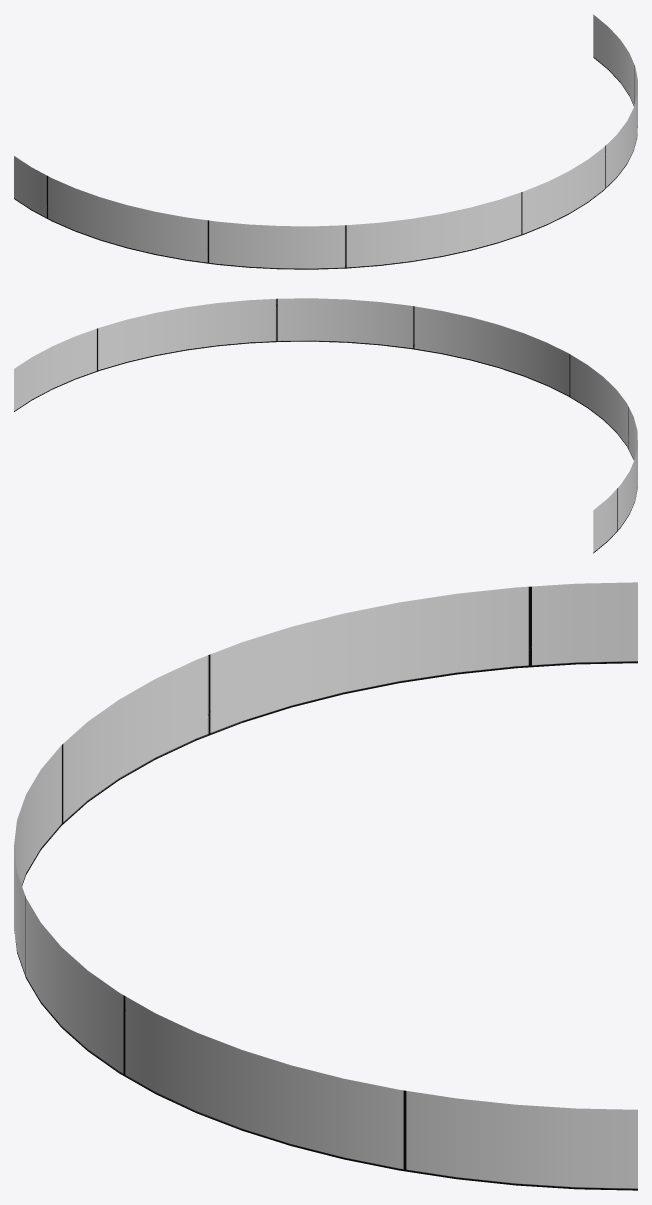
Rendered from Wall700x50xRout350cm.FBX.
The picture shows the model from 3 angles, top to bottom: view 1: azimuth 30°, elevation 25°; view 2: azimuth 150°, elevation 25°; view 3: azimuth 270°, elevation 25°; orthographic projection. The views are drawn at different scales.
Parts seen in each view (by area): view 1: Wall700x50xRout350cm; view 2: Wall700x50xRout350cm; view 3: Wall700x50xRout350cm.
Boxes of the visible parts, box(x1,y1,x2,y2) form: Wall700x50xRout350cm: box(14, 14, 637, 269); Wall700x50xRout350cm: box(14, 298, 637, 553); Wall700x50xRout350cm: box(14, 582, 637, 1190).
Bounding box in the file's own units: 700 × 50 × 350.
